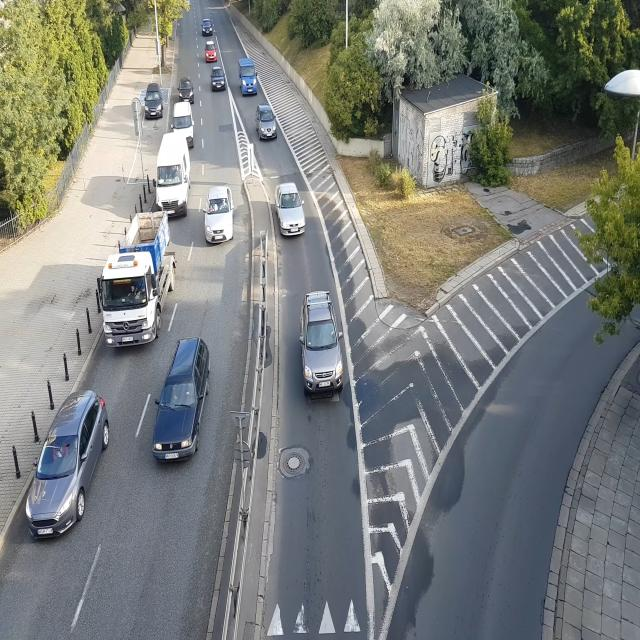car: (24, 393, 110, 538), (151, 339, 206, 463), (298, 292, 349, 397), (154, 127, 192, 217), (204, 186, 237, 244), (275, 184, 304, 237), (169, 99, 197, 141), (257, 106, 278, 141), (240, 58, 259, 95), (144, 85, 164, 118), (178, 71, 196, 102), (204, 38, 219, 64), (213, 74, 228, 92), (200, 20, 213, 35)
truck: (97, 227, 171, 347)
